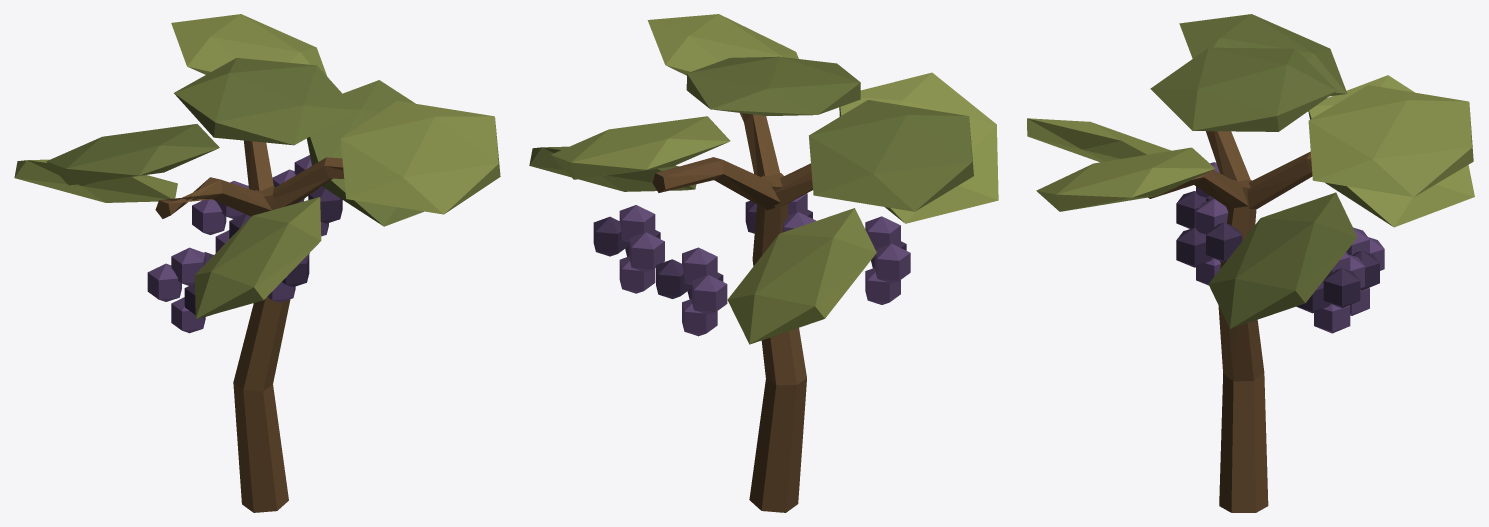
File: vfem2_grape_2.obj
The picture shows the model from 3 angles, left to right: view 1: azimuth 30°, elevation 25°; view 2: azimuth 150°, elevation 25°; view 3: azimuth 270°, elevation 25°; orthographic projection. The views are drawn at different scales.
Visible parts, largest first — view 1: vfem2_grape_2; view 2: vfem2_grape_2; view 3: vfem2_grape_2.
Boxes of the visible parts, bbox=[...] form: vfem2_grape_2: bbox=[14, 14, 500, 512]; vfem2_grape_2: bbox=[529, 14, 998, 512]; vfem2_grape_2: bbox=[1027, 14, 1474, 512].
Size of the model in its own units: 0.9843 by 0.9791 by 0.912.
